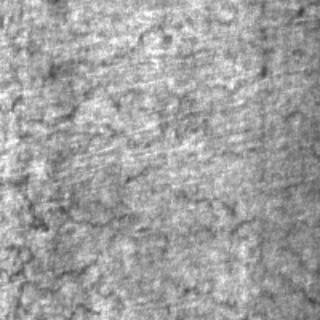crazing: (0, 13, 262, 198), (5, 190, 275, 318)
